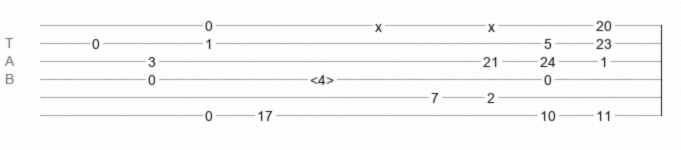0: (92, 36, 100, 46), (148, 72, 156, 82), (205, 18, 213, 28), (205, 108, 213, 118), (544, 72, 552, 82)
1: (205, 36, 213, 46), (600, 54, 608, 64)
10: (540, 108, 556, 118)
11: (596, 108, 612, 118)
17: (257, 108, 273, 118)
2: (487, 90, 495, 100)
20: (596, 18, 612, 28)
21: (483, 54, 499, 64)
23: (596, 36, 612, 46)
24: (540, 54, 556, 64)
3: (148, 54, 156, 64)
5: (544, 36, 552, 46)
7: (431, 90, 439, 100)
harmonic: (310, 72, 334, 82)
x: (375, 19, 382, 27), (488, 19, 495, 27)
